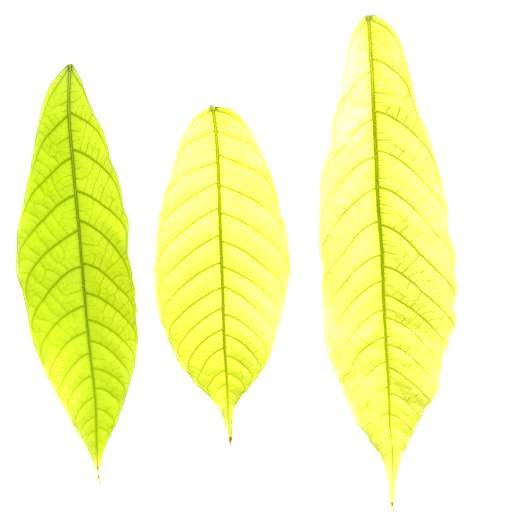Iron: (320, 16, 455, 504), (17, 65, 135, 468), (156, 106, 288, 439)
